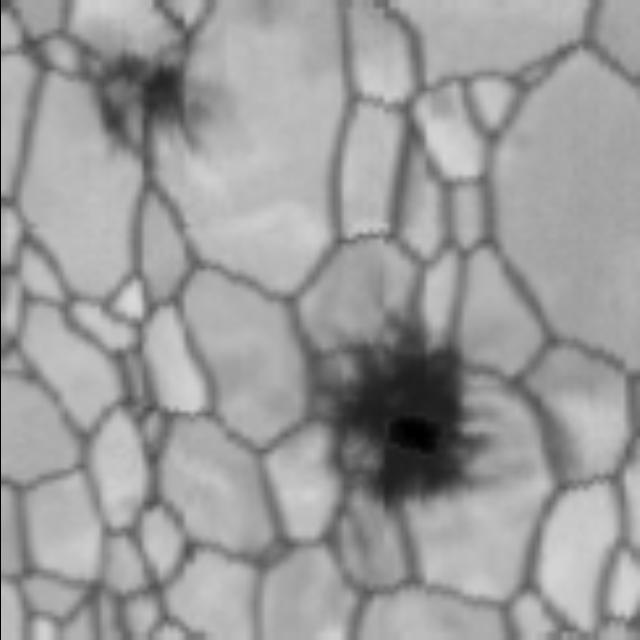good_void: (238, 264, 552, 587), (70, 16, 235, 179)
